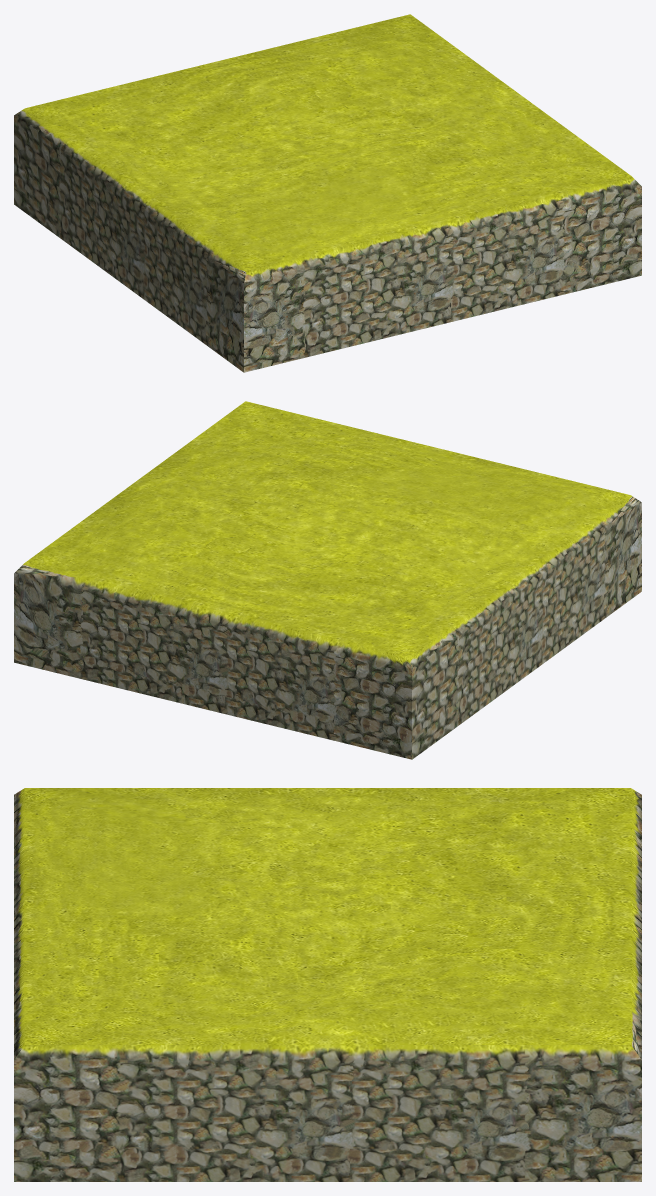
The model's file is Terrace_Full_01.fbx.
The picture shows the model from 3 angles, top to bottom: view 1: azimuth 30°, elevation 25°; view 2: azimuth 150°, elevation 25°; view 3: azimuth 270°, elevation 25°; orthographic projection. The views are drawn at different scales.
Parts seen in each view (by area): view 1: pCube7; view 2: pCube7; view 3: pCube7.
Part boxes in pixels (<box>): pCube7: <box>14,14,641,372</box>; pCube7: <box>14,401,641,759</box>; pCube7: <box>14,788,641,1181</box>.
Bounding box in the file's own units: 14.14 × 3.6 × 14.14.
